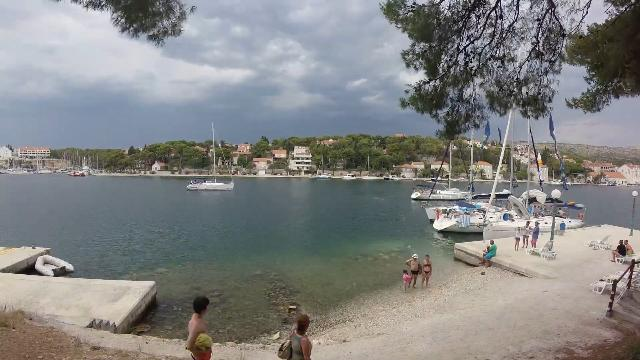Sailboat: (180, 171, 242, 195)
